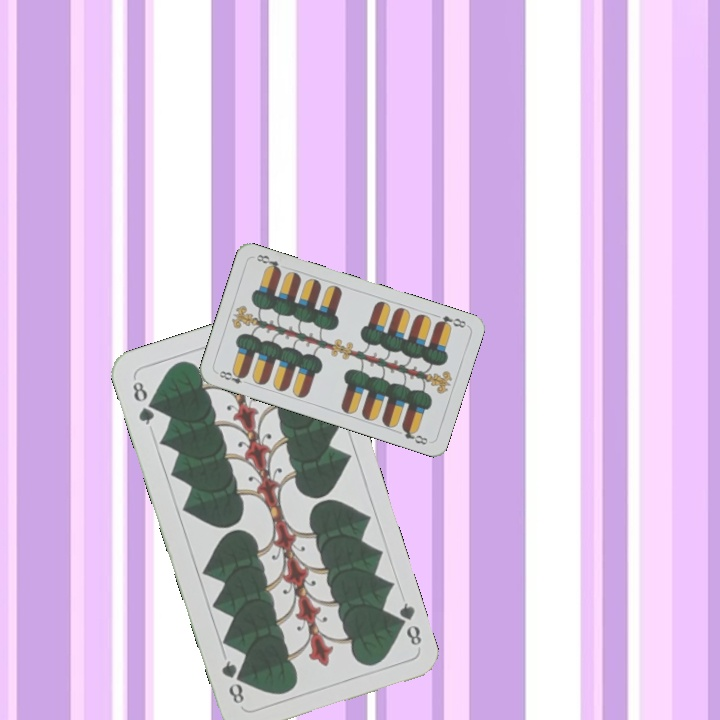E8: (213, 366, 252, 387), (431, 311, 469, 331)
G8: (390, 598, 425, 648), (128, 377, 158, 428)
